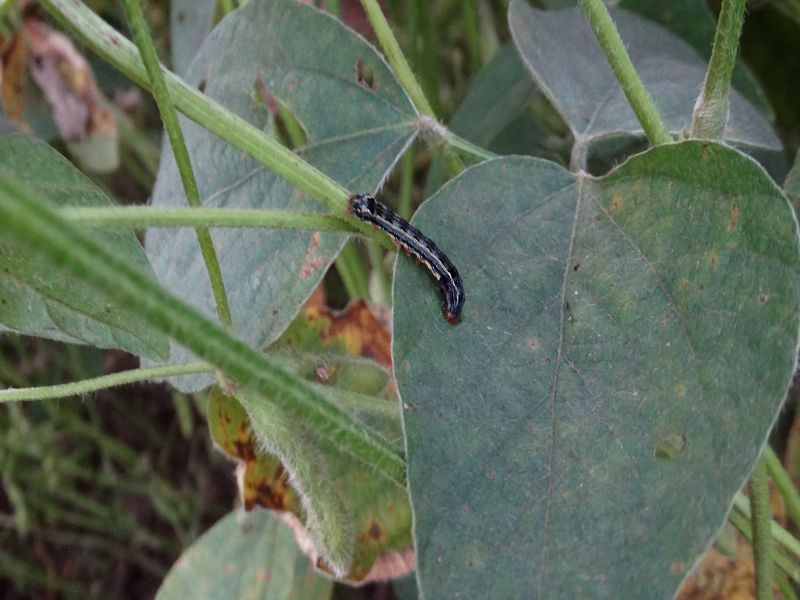Spodoptera_albula: (323, 181, 481, 335)
